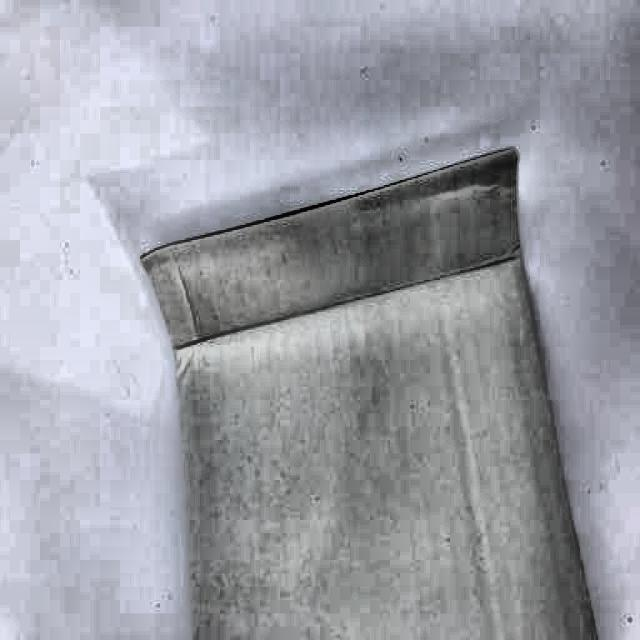cardboard: (143, 146, 602, 638)
